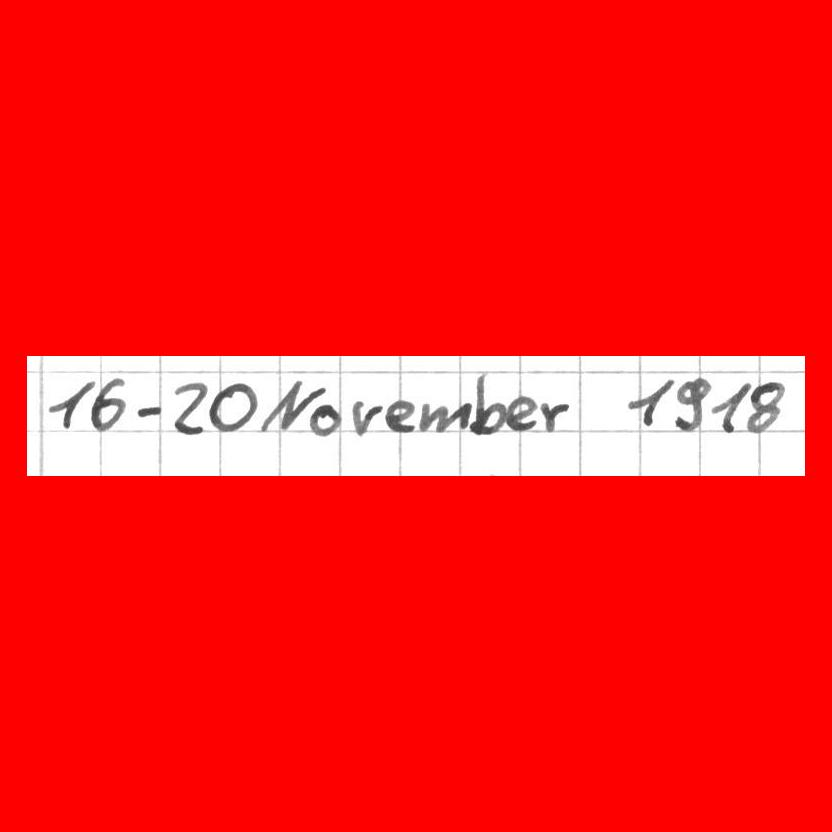Char: (259, 377, 318, 436), (208, 380, 258, 435), (625, 376, 675, 430), (46, 378, 94, 432), (670, 374, 713, 434), (708, 378, 752, 436), (744, 376, 788, 434), (469, 371, 507, 437), (88, 376, 129, 434), (169, 380, 209, 435), (417, 399, 471, 435), (305, 400, 342, 439), (351, 397, 384, 437), (506, 394, 540, 432), (529, 397, 563, 432), (385, 397, 415, 435), (137, 400, 164, 421)
